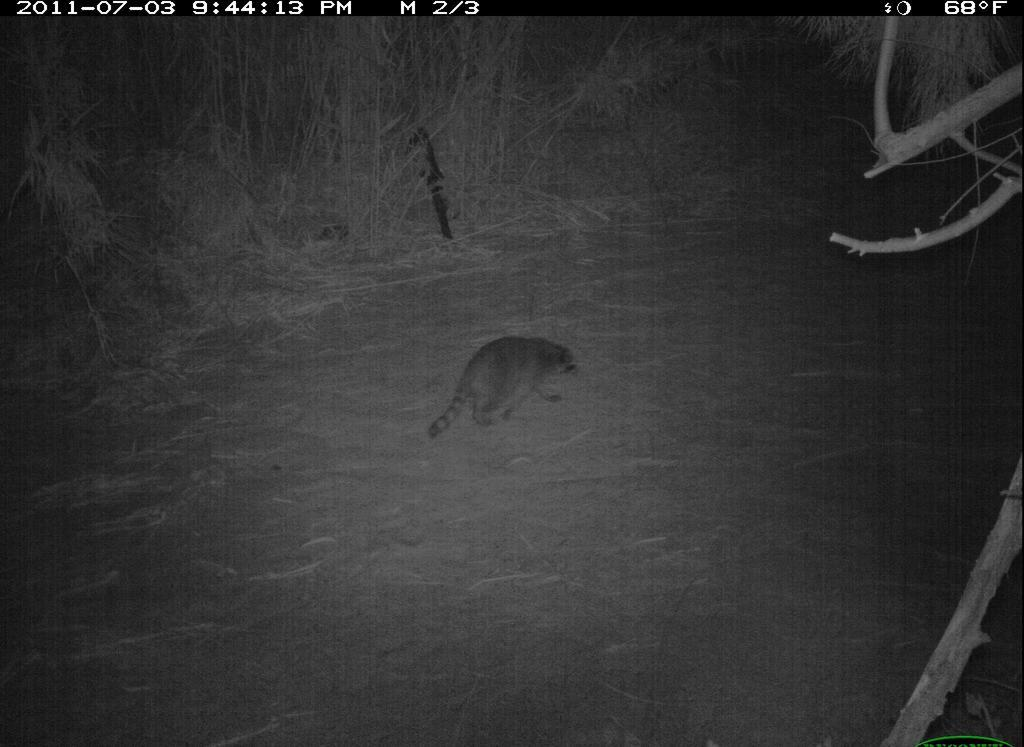raccoon: (422, 323, 593, 478)
